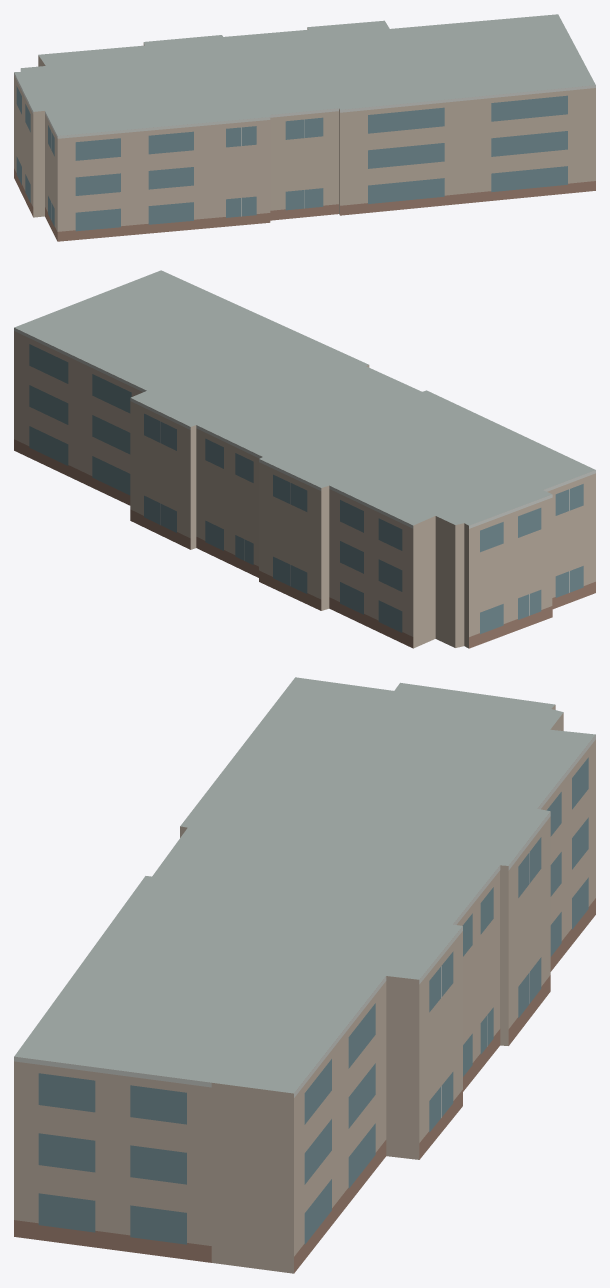
The model's file is survey-upis-32466259.glb.
The picture shows the model from 3 angles, top to bottom: view 1: azimuth 30°, elevation 25°; view 2: azimuth 150°, elevation 25°; view 3: azimuth 270°, elevation 25°; orthographic projection. The views are drawn at different scales.
Parts seen in each view (by area): view 1: survey-upis-32466259.tmp; view 2: survey-upis-32466259.tmp; view 3: survey-upis-32466259.tmp.
Part boxes in pixels (x1=…): survey-upis-32466259.tmp: x1=14, y1=14, x2=595, y2=241; survey-upis-32466259.tmp: x1=14, y1=270, x2=595, y2=648; survey-upis-32466259.tmp: x1=14, y1=677, x2=595, y2=1273.
Bounding box in the file's own units: 45.34 × 9.15 × 26.79.
